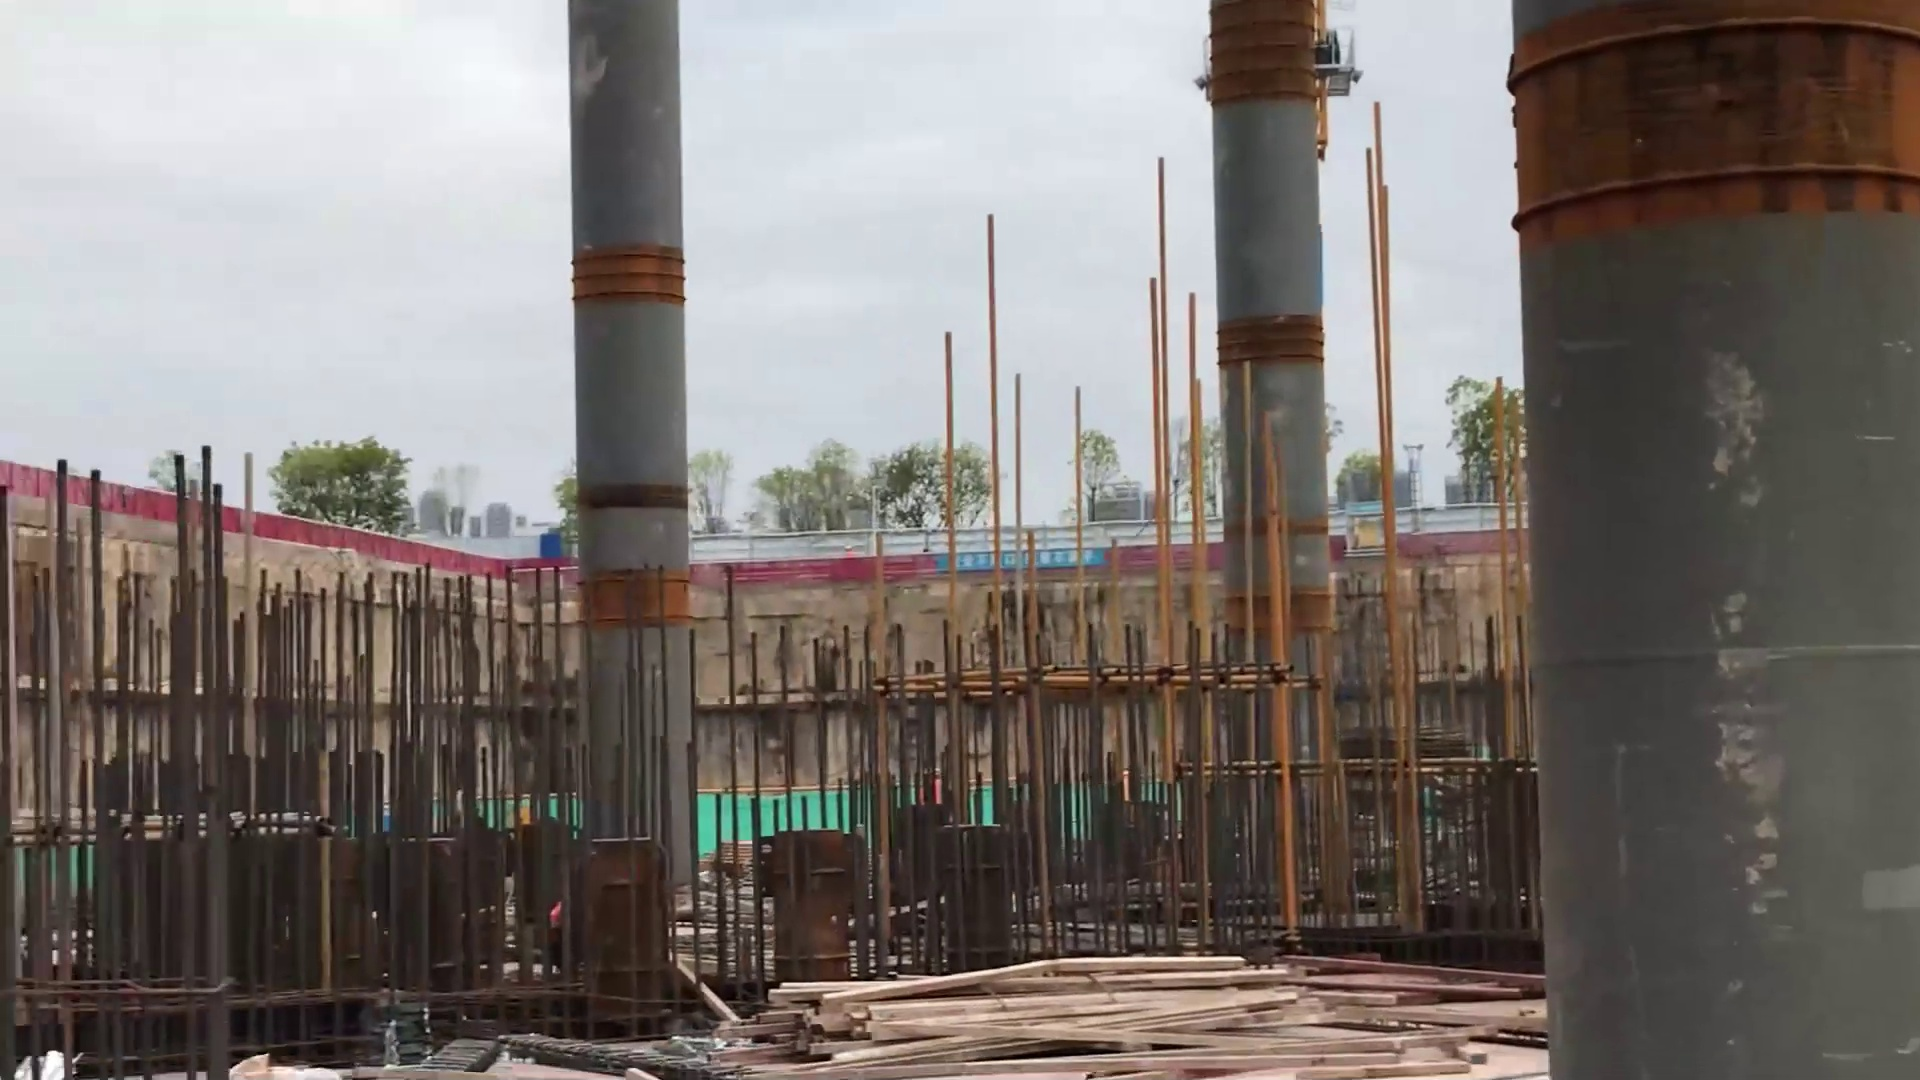wood: (733, 936, 1523, 1080)
